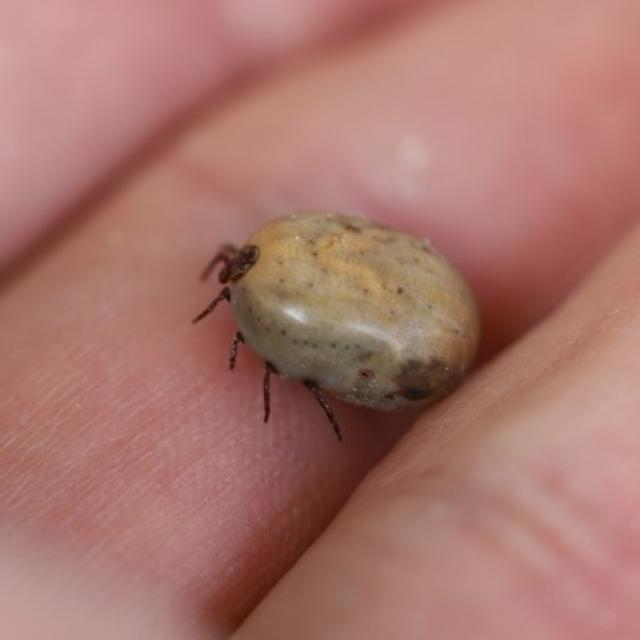Dermacentor Reticulatus-F-Fed: (193, 211, 482, 442)
